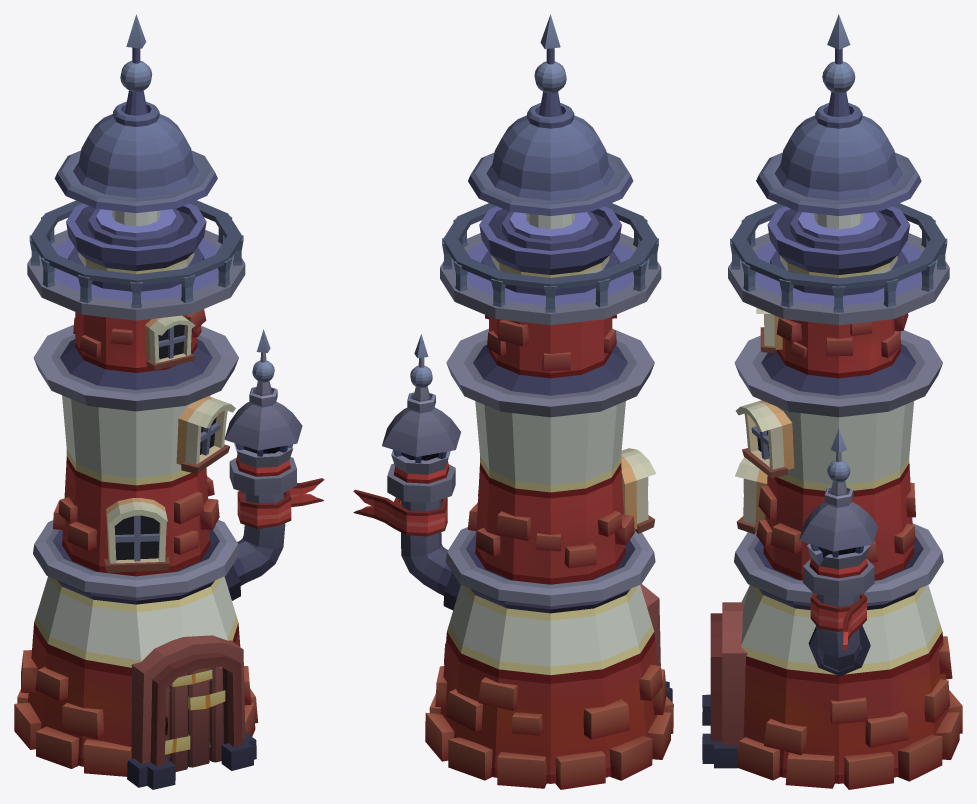
File: LightHouseMainVersion2.fbx
3 views of the same model, side by side, from view 1: azimuth 30°, elevation 25°; view 2: azimuth 150°, elevation 25°; view 3: azimuth 270°, elevation 25° (orthographic).
Parts seen in each view (by area): view 1: Lighthouse(VC); view 2: Lighthouse(VC); view 3: Lighthouse(VC).
Part boxes in pixels (x1=…): Lighthouse(VC): x1=14, y1=14, x2=324, y2=789; Lighthouse(VC): x1=353, y1=14, x2=673, y2=789; Lighthouse(VC): x1=702, y1=14, x2=962, y2=789.
Bounding box in the file's own units: 781 × 585 × 1801.
